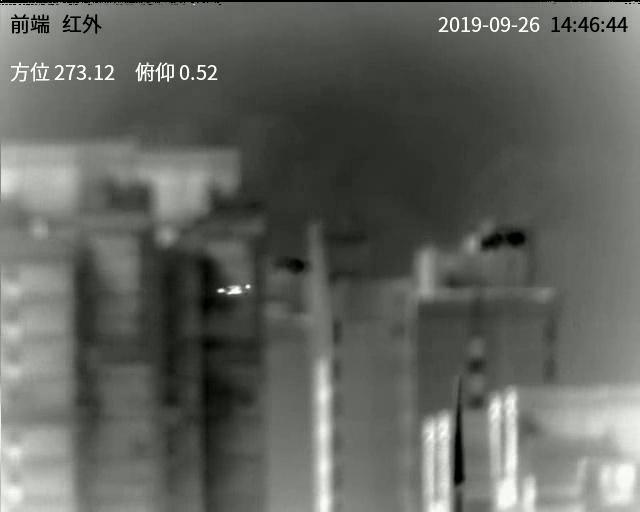DRONE: (215, 282, 253, 296)
